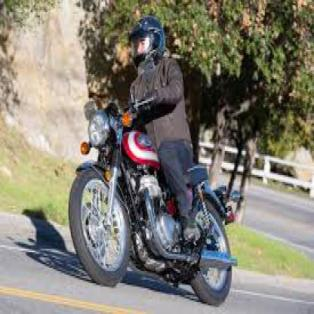Motocicleta: (60, 98, 243, 302)
